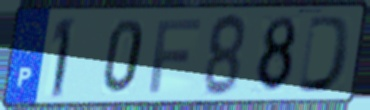0: (100, 17, 146, 97)
1: (50, 16, 77, 101)
8: (201, 11, 249, 100), (251, 13, 297, 96)
D: (295, 14, 354, 95)
F: (147, 17, 204, 96)
